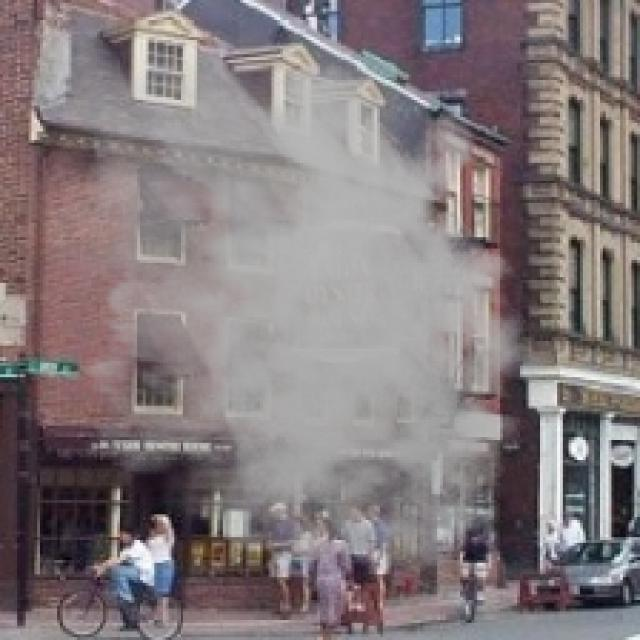Smoke: (20, 12, 563, 574)
